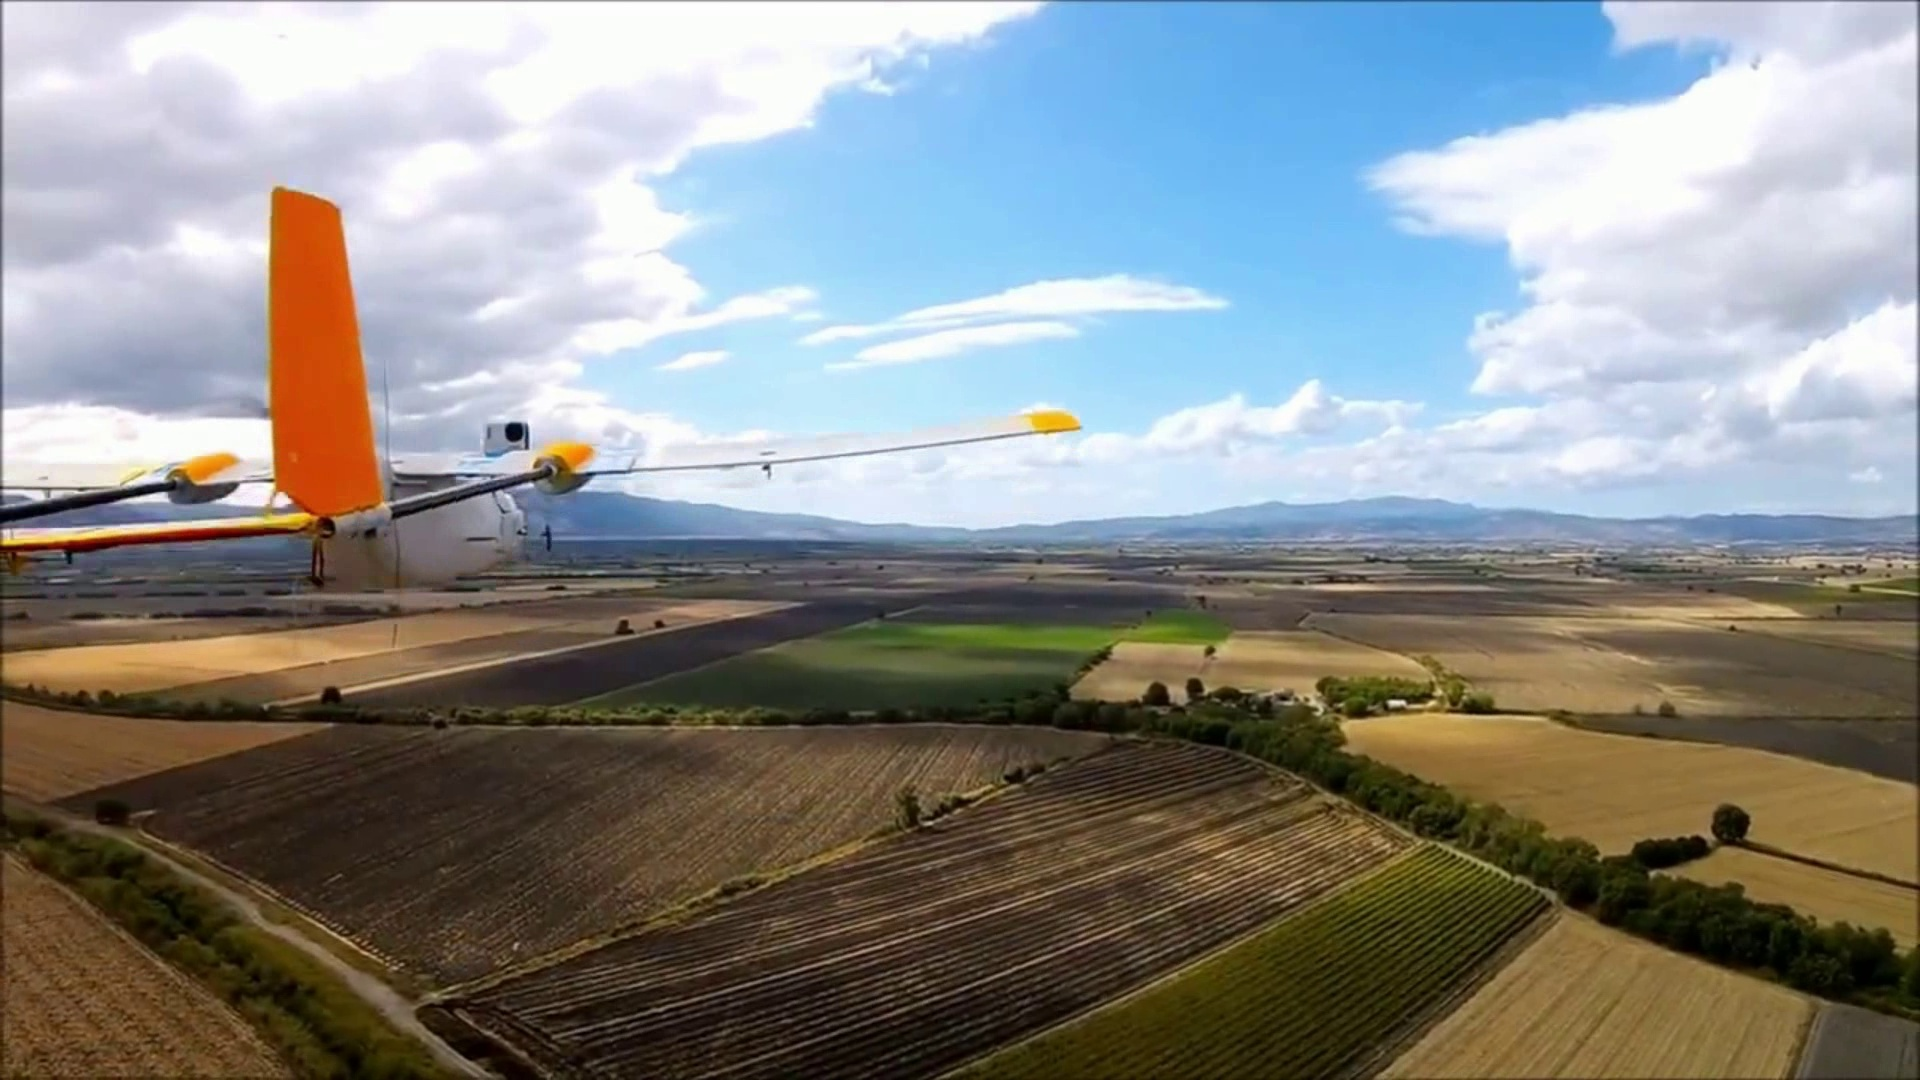airplane: (7, 186, 1081, 572)
